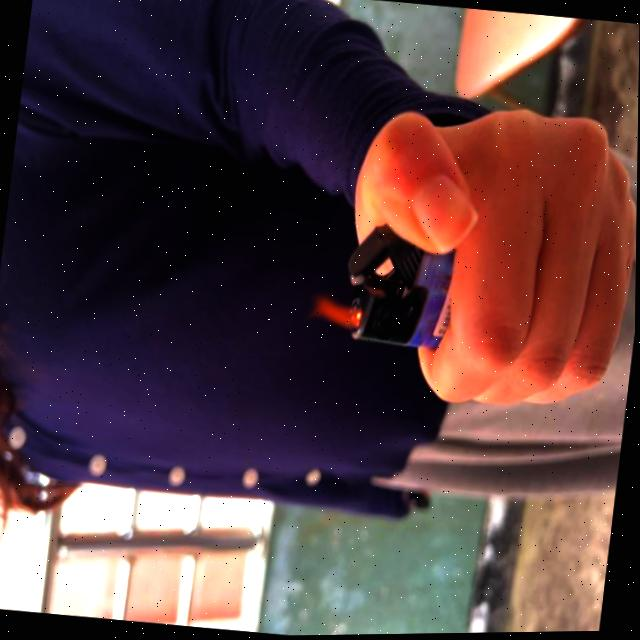Fire: (305, 290, 365, 332)
